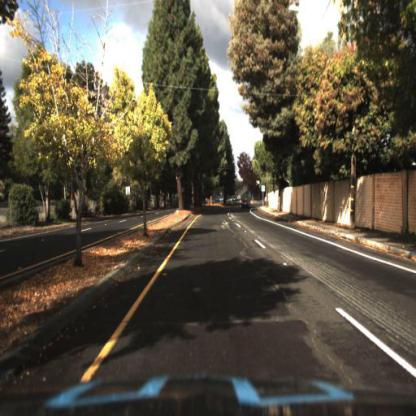car: (238, 195, 254, 212)
